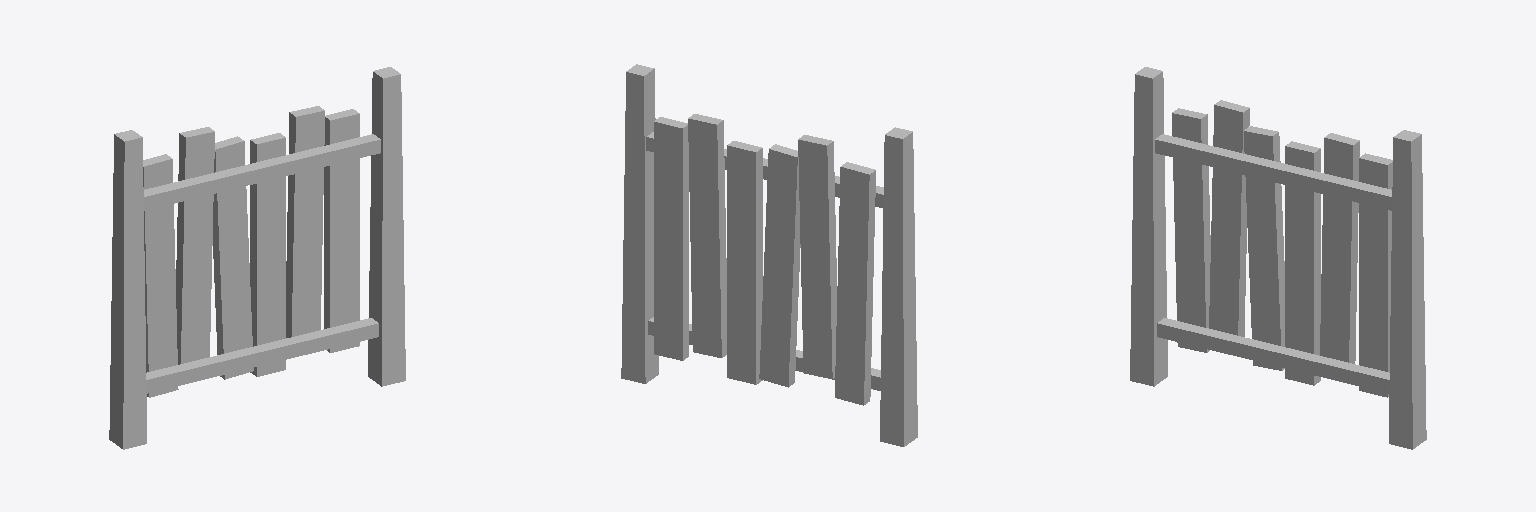
The model's file is fenceFortified.obj.
3 views of the same model, side by side, from view 1: azimuth 30°, elevation 25°; view 2: azimuth 150°, elevation 25°; view 3: azimuth 330°, elevation 25° (orthographic).
Parts seen in each view (by area): view 1: fenceFortified; view 2: fenceFortified; view 3: fenceFortified.
Boxes of the visible parts, <box> form: fenceFortified: <box>109,67,405,449</box>; fenceFortified: <box>621,64,917,446</box>; fenceFortified: <box>1130,67,1426,449</box>.
Bounding box in the file's own units: 0.5 × 0.5175 × 0.053.